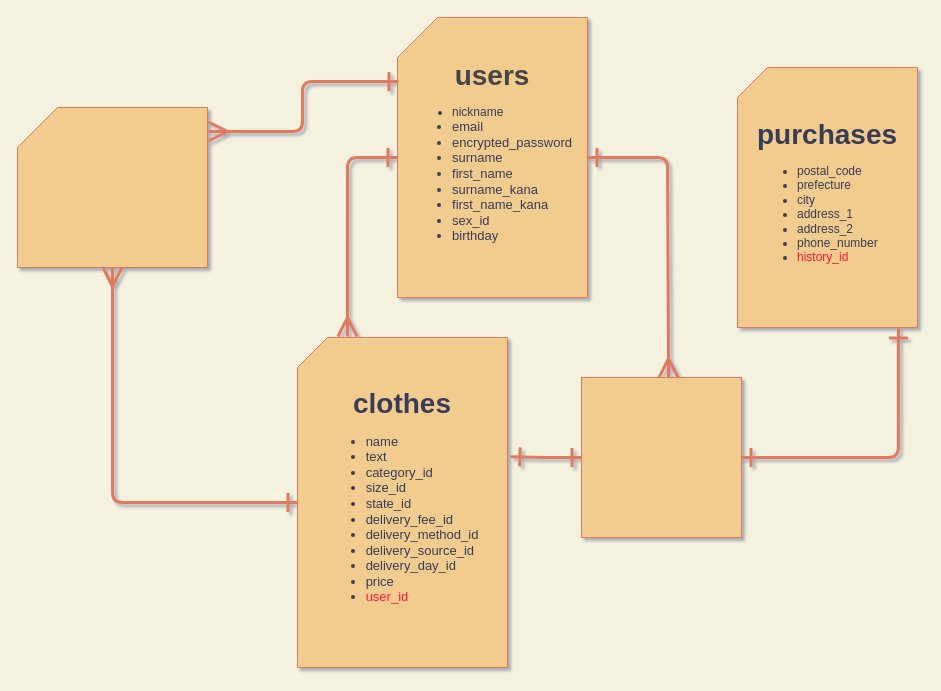
The diagram is 941 pixels wide and 691 high, and some of its shapes have lost their labels. The centre of each missing label's shape, as x and y in pixels:
"comments text user_id clohte_id" goes at point 112,187.
"histories user_id clothe_id" goes at point 661,457.
